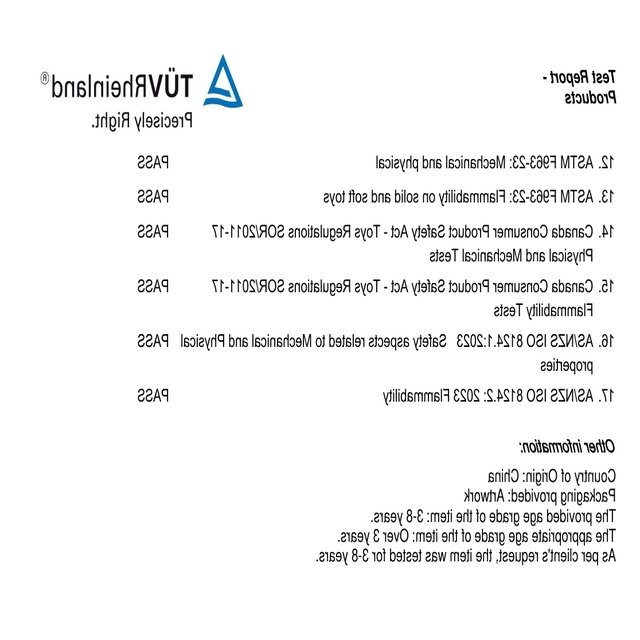tuv_rheinland: (38, 53, 245, 113)
